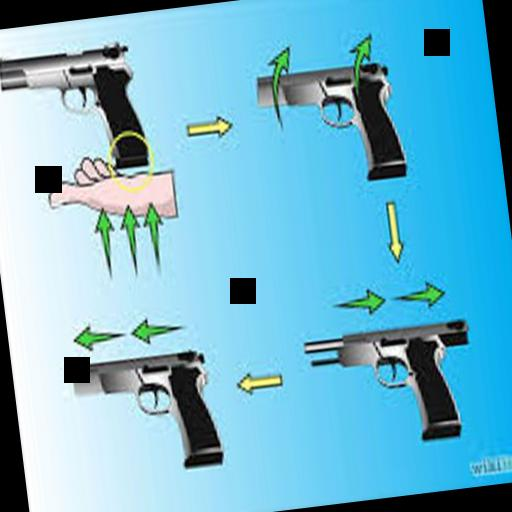Handgun: (0, 32, 161, 187), (304, 314, 480, 454), (252, 49, 410, 200), (67, 340, 226, 486)
